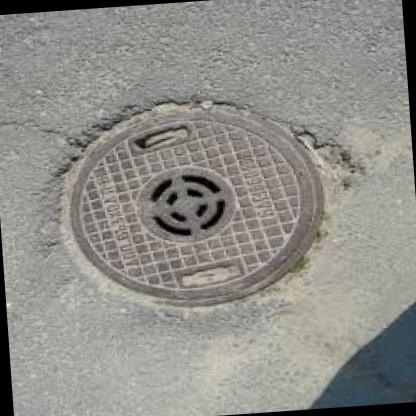manholes: (10, 28, 416, 360)
